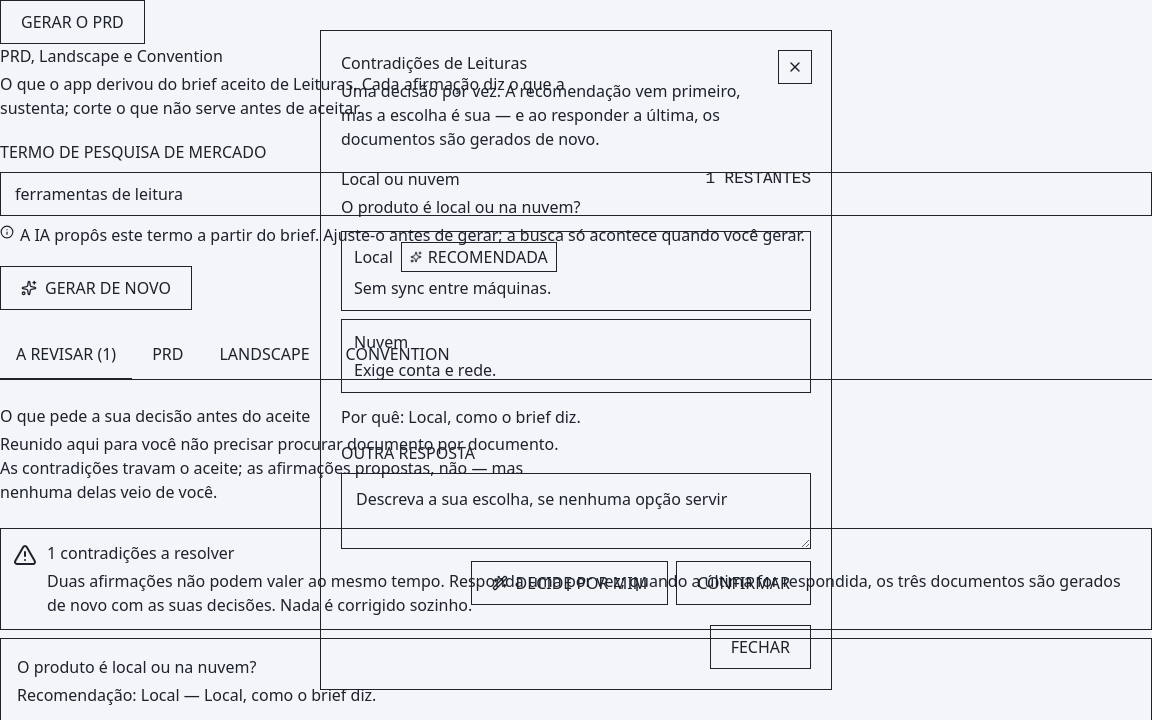
Test: contradições — pergunta no pop-up da M8-F03 (critério 6, emenda E1) › tela reaberta: responder a última não regera com termo que ninguém confirmou (critério 3)
Click the radio button labelled "Nuvem Exige conta e rede.": (381, 342) [341,319,811,393]
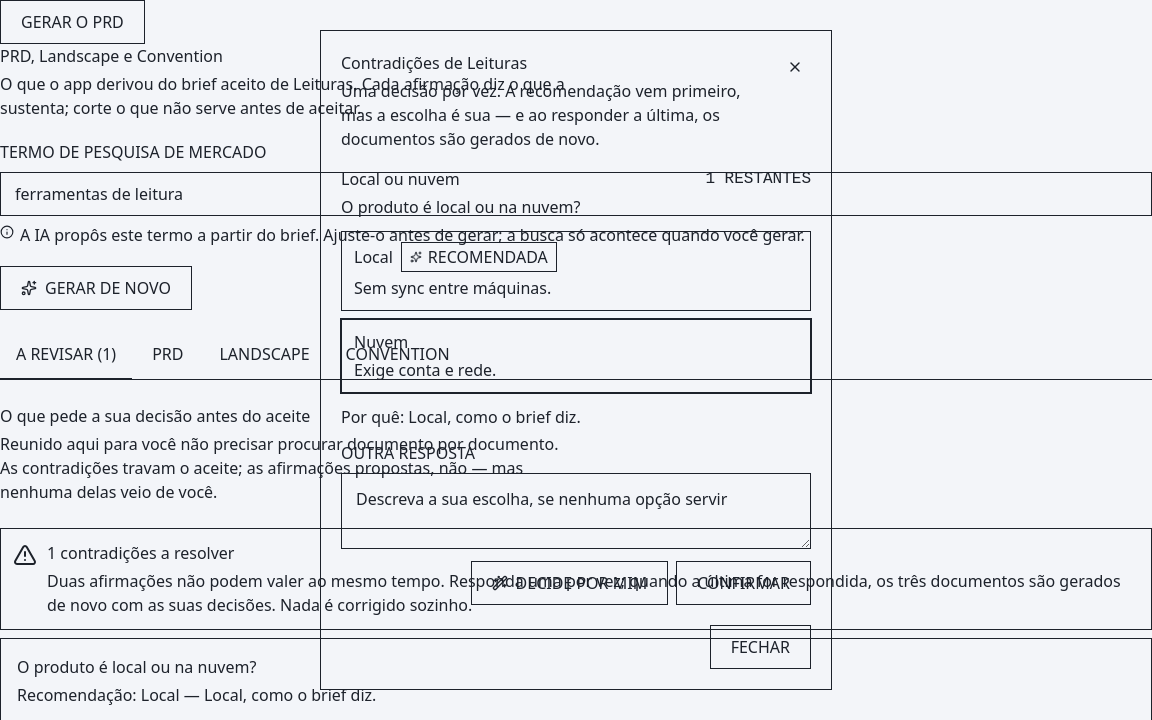
Click the button "Confirmar": (744, 583) [676,561,811,605]
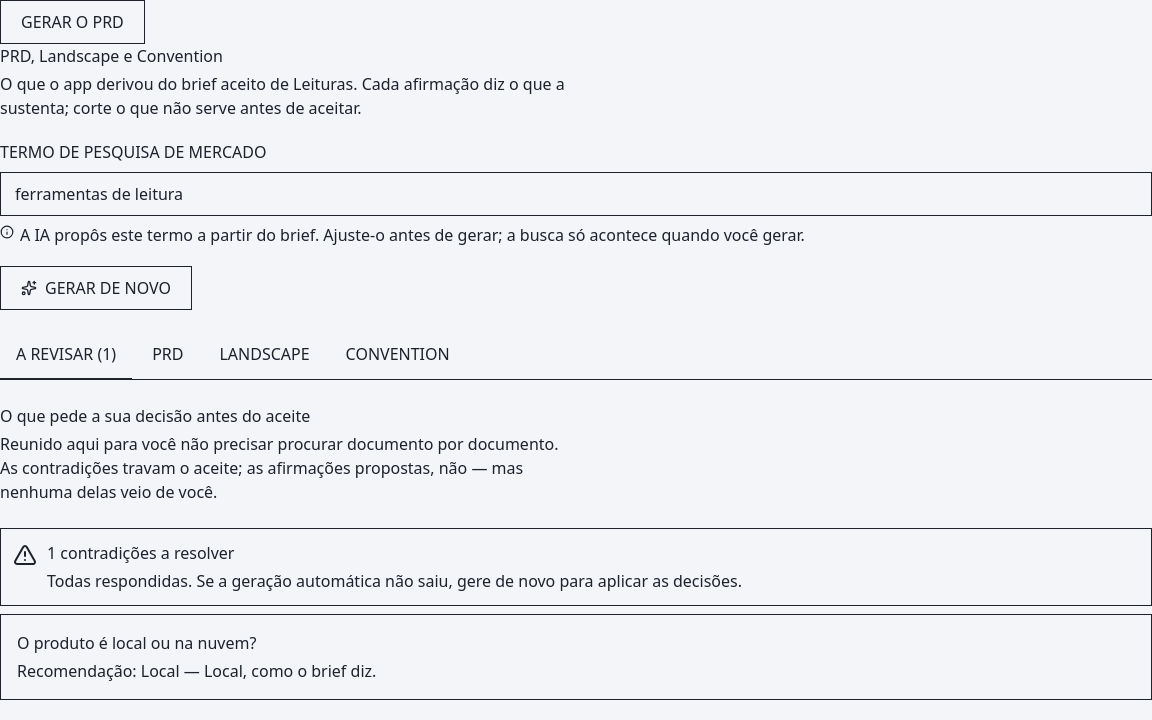
Result: the dialog is gone
Result: the text "Todas respondidas" is shown at [47,570,742,592]
